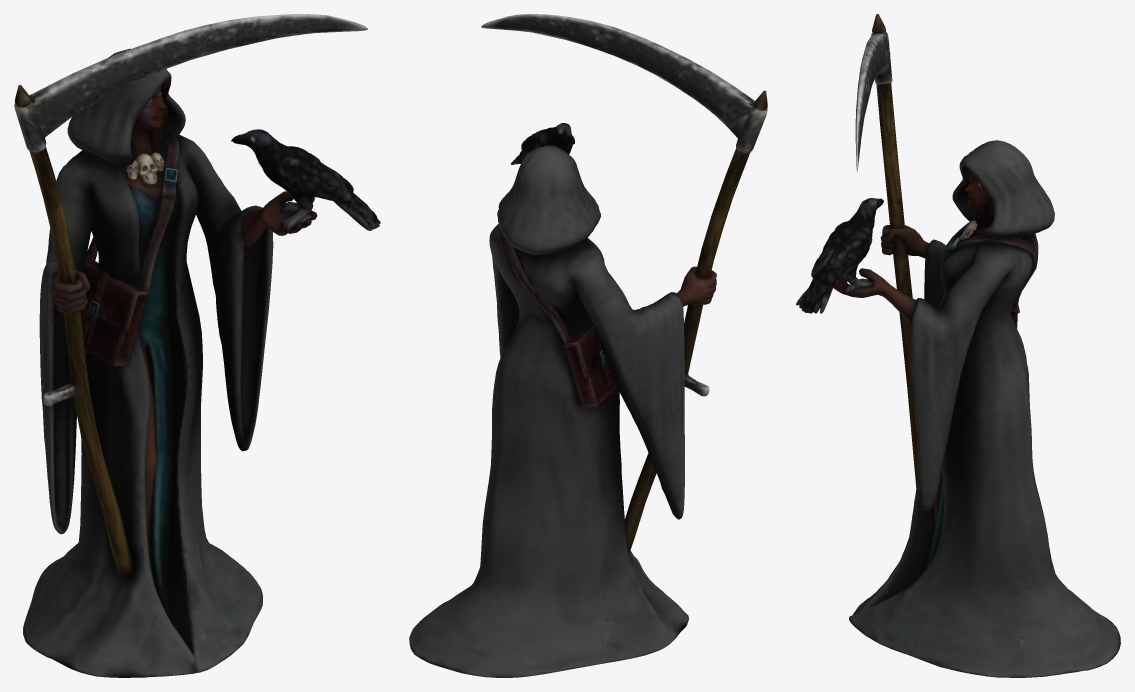
Rendered from MZ4250 - Human Female Necromancy Wizard_4.glb.
3 views of the same model, side by side, from view 1: azimuth 30°, elevation 25°; view 2: azimuth 150°, elevation 25°; view 3: azimuth 270°, elevation 25° (orthographic). The views are drawn at different scales.
Visible parts, largest first — view 1: Crow t.001; view 2: Crow t.001; view 3: Crow t.001.
Boxes of the visible parts, left/top/right/bottom form: Crow t.001: left=14, top=14, right=380, bottom=677; Crow t.001: left=409, top=14, right=767, bottom=677; Crow t.001: left=796, top=14, right=1120, bottom=677.
Size of the model in its own units: 0.5925 by 1.07 by 0.5638.
Materials: 1 (1 with a texture image).
